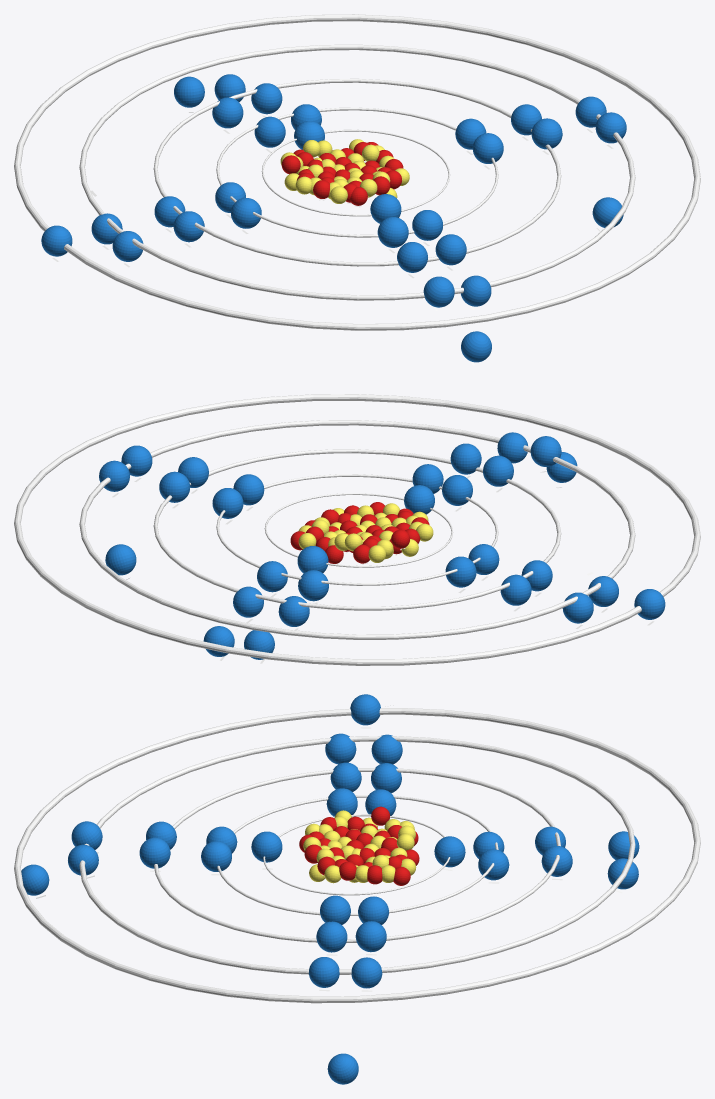
3 views of the same model, one above another, from view 1: azimuth 30°, elevation 25°; view 2: azimuth 150°, elevation 25°; view 3: azimuth 270°, elevation 25° (orthographic).
Visible parts, largest first — view 1: Torus.005, Torus.004, Torus.003, Torus.002, Torus.001, g.015, g.022, g.006, g.008, g.014, g.021, g.027 (+21 smaller); view 2: Torus.005, Torus.004, Torus.003, Torus.002, Torus.001, g.015, g.014, g.006, g.009, g.004, g.002, g.028 (+22 smaller); view 3: Torus.005, Torus.004, Torus.003, Torus.002, Torus.001, g.013, g.025, g.028, g.023, g.012, g.001, g.026 (+17 smaller).
Boxes of the visible parts, box(x1,y1,x2,y2) form: Torus.005: box(14, 14, 700, 330); Torus.004: box(79, 44, 635, 300); Torus.003: box(153, 78, 561, 266); Torus.002: box(216, 107, 498, 237); Torus.001: box(261, 129, 450, 216); g.015: box(435, 234, 466, 265); g.022: box(423, 276, 454, 307); g.006: box(377, 217, 408, 247); g.008: box(254, 116, 285, 147); g.014: box(397, 242, 427, 272); g.021: box(174, 76, 204, 107); g.027: box(461, 331, 491, 362); Torus.005: box(14, 394, 700, 665); Torus.004: box(79, 420, 635, 639); Torus.003: box(153, 449, 561, 610); Torus.002: box(216, 474, 498, 585); Torus.001: box(264, 493, 453, 567); g.015: box(450, 443, 481, 474); g.014: box(483, 455, 513, 486); g.006: box(442, 475, 472, 505); g.009: box(257, 561, 287, 592); g.004: box(212, 488, 243, 518); g.002: box(445, 556, 476, 587); g.028: box(105, 544, 136, 575); Torus.005: box(14, 708, 700, 1003); Torus.004: box(79, 736, 635, 974); Torus.003: box(154, 768, 560, 942); Torus.002: box(217, 795, 498, 915); Torus.001: box(263, 814, 450, 895); g.013: box(316, 921, 347, 952); g.025: box(351, 957, 382, 988); g.028: box(327, 1053, 358, 1084); g.023: box(308, 957, 339, 987); g.012: box(355, 921, 386, 952); g.001: box(251, 831, 282, 862); g.026: box(350, 694, 380, 725).
Size of the model in its own units: 22.37 by 4.97 by 21.89.
